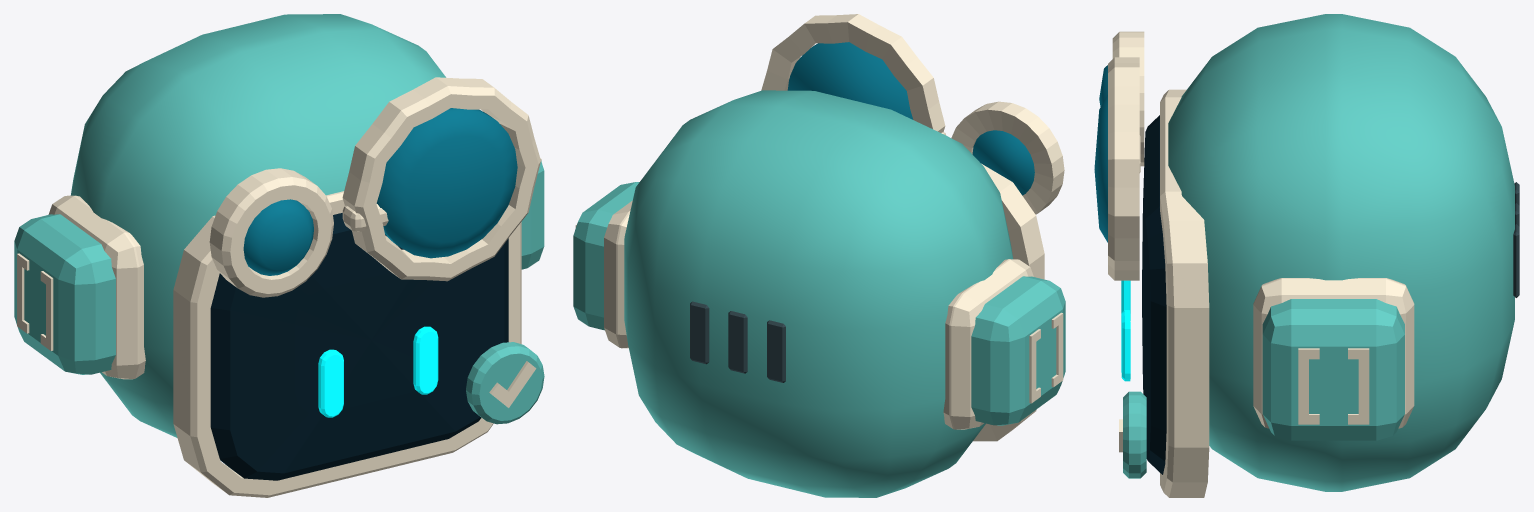
File: copilot_tester_v01.glb
3 renders of one model, left to right at view 1: azimuth 30°, elevation 25°; view 2: azimuth 150°, elevation 25°; view 3: azimuth 270°, elevation 25°, orthographic. The views are drawn at different scales.
Visible parts, largest first — view 1: tester_model; view 2: tester_model; view 3: tester_model.
Part boxes in pixels (x1,y1,x2,y2): tester_model: [14, 14, 544, 497]; tester_model: [573, 14, 1065, 497]; tester_model: [1094, 14, 1519, 497].
Bounding box in the file's own units: 2.49 × 1.95 × 1.79.
2 materials, 2 textured.
